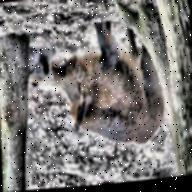boar: (29, 11, 169, 163)
